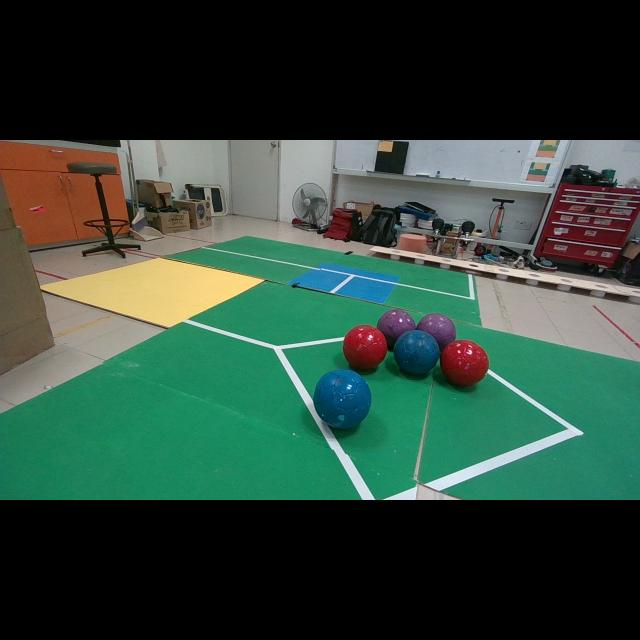B: (314, 369, 371, 429), (394, 330, 440, 375)
P: (378, 309, 416, 348), (416, 314, 455, 351)
R: (342, 325, 388, 371), (441, 341, 488, 386)
